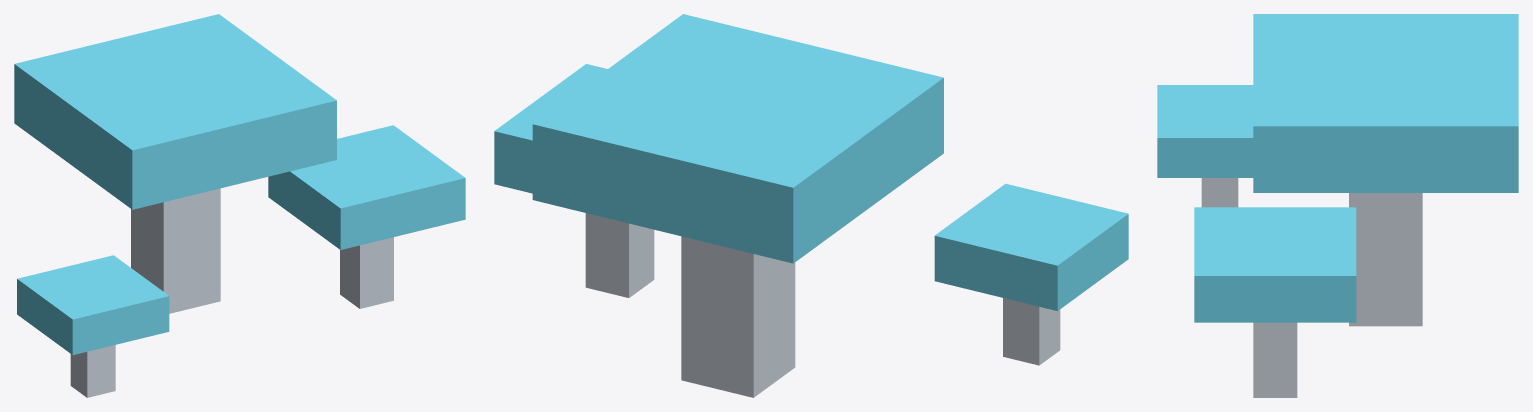
The model's file is mushrooms.glb.
3 renders of one model, left to right at view 1: azimuth 30°, elevation 25°; view 2: azimuth 150°, elevation 25°; view 3: azimuth 270°, elevation 25°, orthographic. The views are drawn at different scales.
Visible parts, largest first — view 1: mushrooms; view 2: mushrooms; view 3: mushrooms.
Part boxes in pixels (x1,y1,x2,y2): mushrooms: (14,14,465,397); mushrooms: (494,14,1128,397); mushrooms: (1157,14,1518,397).
Size of the model in its own units: 0.72 by 0.36 by 0.49.
Materials: 1 (1 with a texture image).
